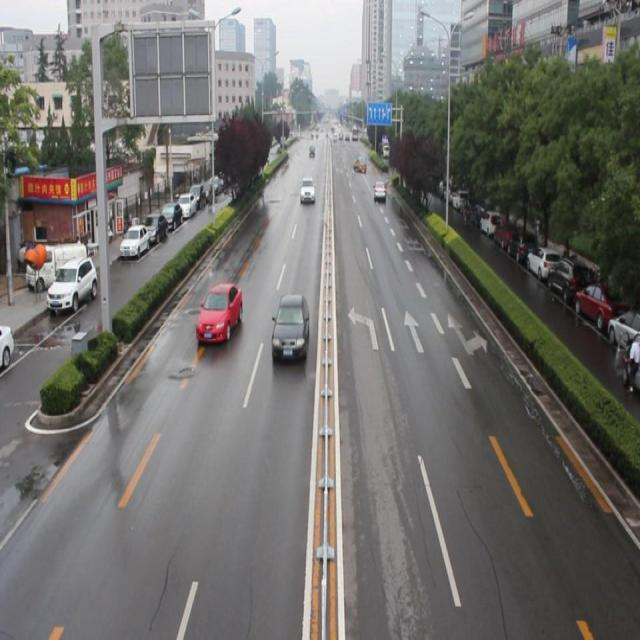car: (196, 281, 243, 346), (270, 292, 310, 359), (299, 178, 316, 202), (372, 177, 387, 201), (352, 156, 366, 173)
